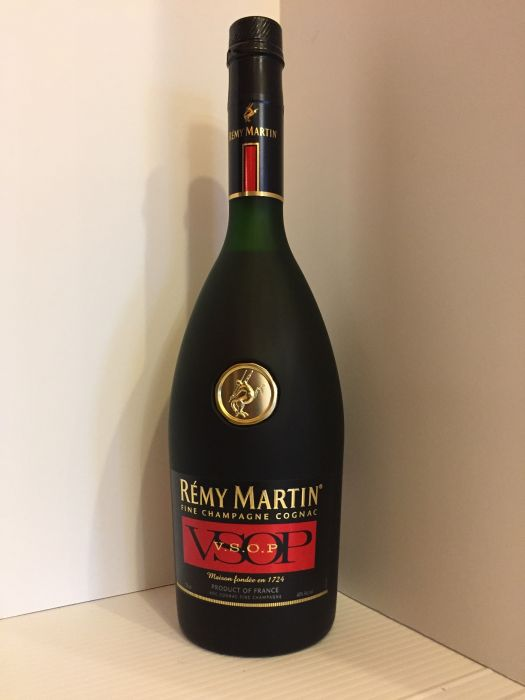Remy Martin: (150, 9, 371, 674)
